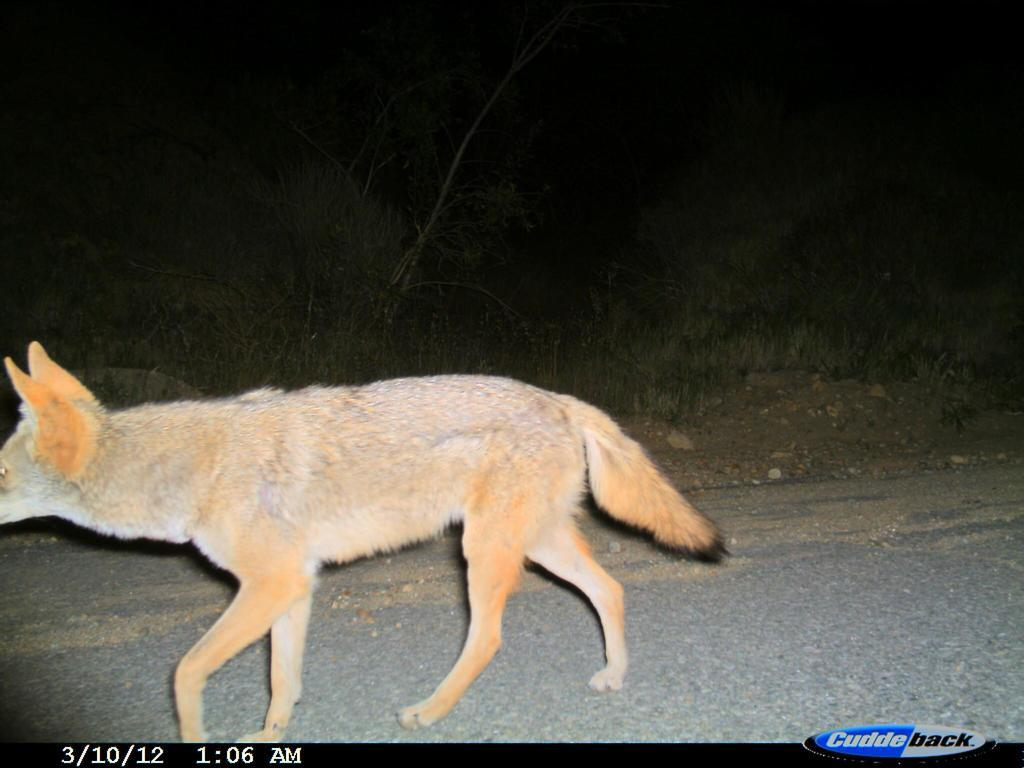coyote: (4, 336, 722, 730)
